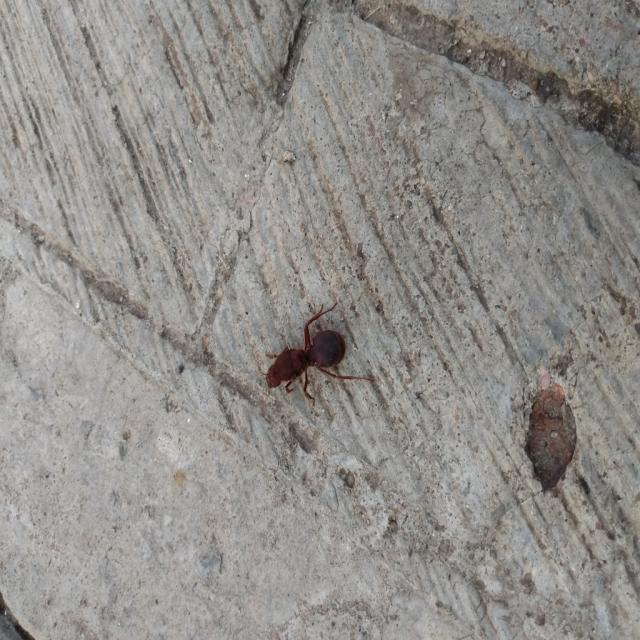Alive-Female-Dealate: (255, 302, 375, 408)
